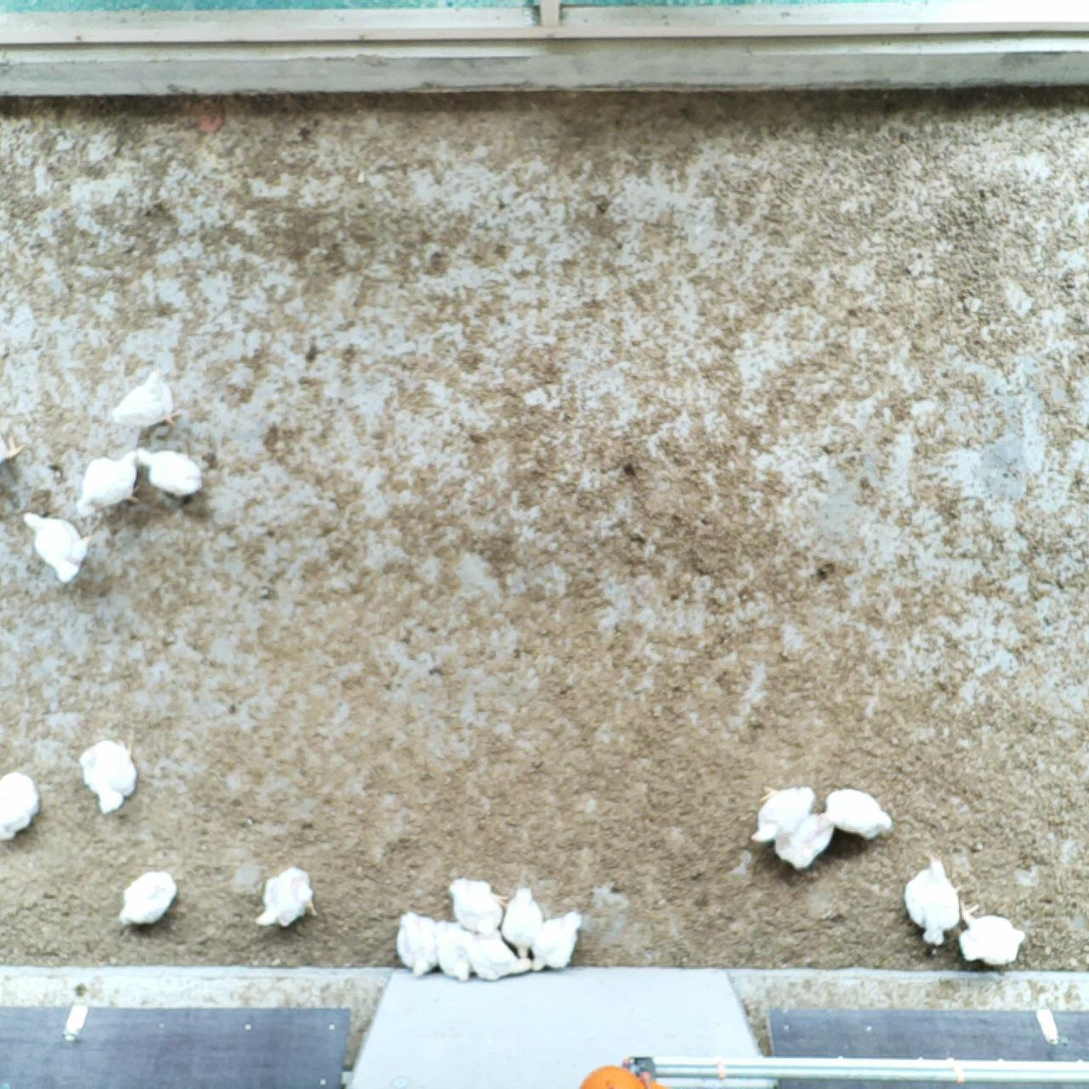chicken: (106, 362, 186, 443), (902, 851, 965, 948), (19, 506, 93, 584), (75, 731, 140, 817), (956, 896, 1029, 971), (251, 860, 321, 933), (114, 863, 182, 932), (743, 780, 814, 846), (133, 442, 208, 503), (821, 786, 897, 844), (445, 872, 510, 938), (76, 447, 141, 513), (772, 811, 836, 873), (0, 765, 43, 853), (530, 908, 584, 975), (392, 907, 442, 978), (464, 932, 533, 983), (502, 881, 544, 961), (432, 916, 476, 984)
